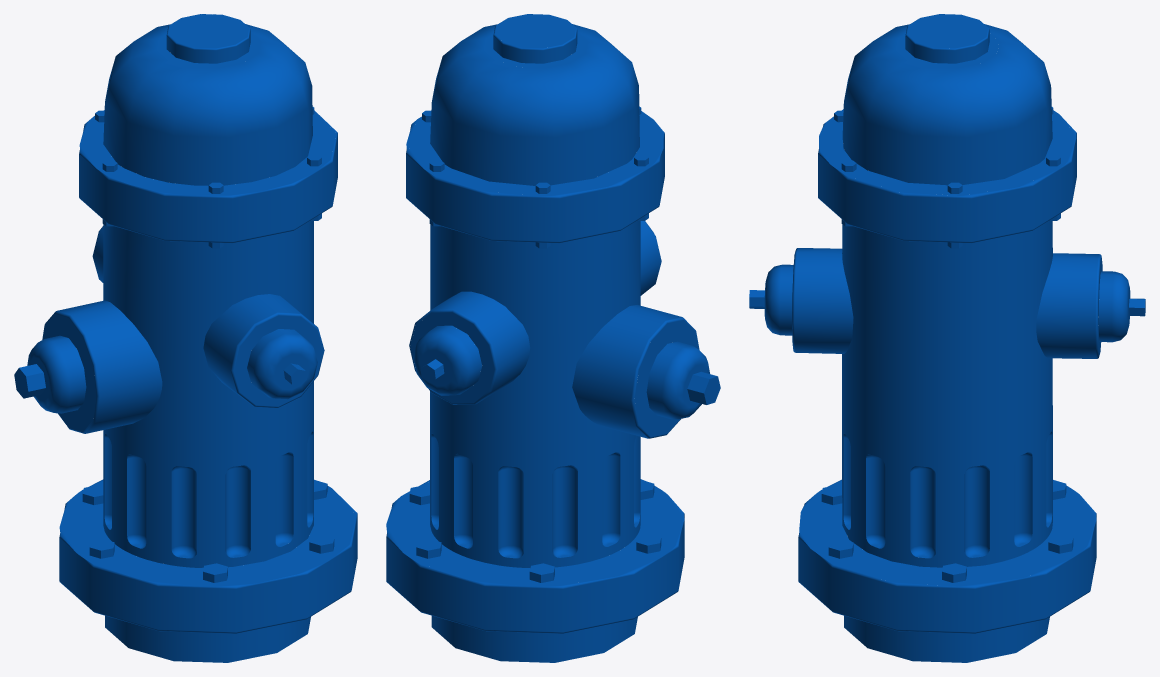
The model's file is 2a158e41-9461-4970-8fcb-bf4683f6fd5a.glb.
The picture shows the model from 3 angles, left to right: view 1: azimuth 30°, elevation 25°; view 2: azimuth 150°, elevation 25°; view 3: azimuth 270°, elevation 25°; orthographic projection.
Parts seen in each view (by area): view 1: 3763, 3763_4302; view 2: 3763, 3763_4302; view 3: 3763, 3763_4302.
Boxes of the visible parts, bbox=[...] form: 3763: bbox=[27, 14, 357, 662]; 3763_4302: bbox=[14, 14, 356, 586]; 3763: bbox=[386, 14, 709, 662]; 3763_4302: bbox=[386, 14, 720, 586]; 3763: bbox=[764, 14, 1129, 662]; 3763_4302: bbox=[749, 14, 1145, 586].
Bounding box in the file's own units: 0.3473 × 0.6253 × 0.3822.
